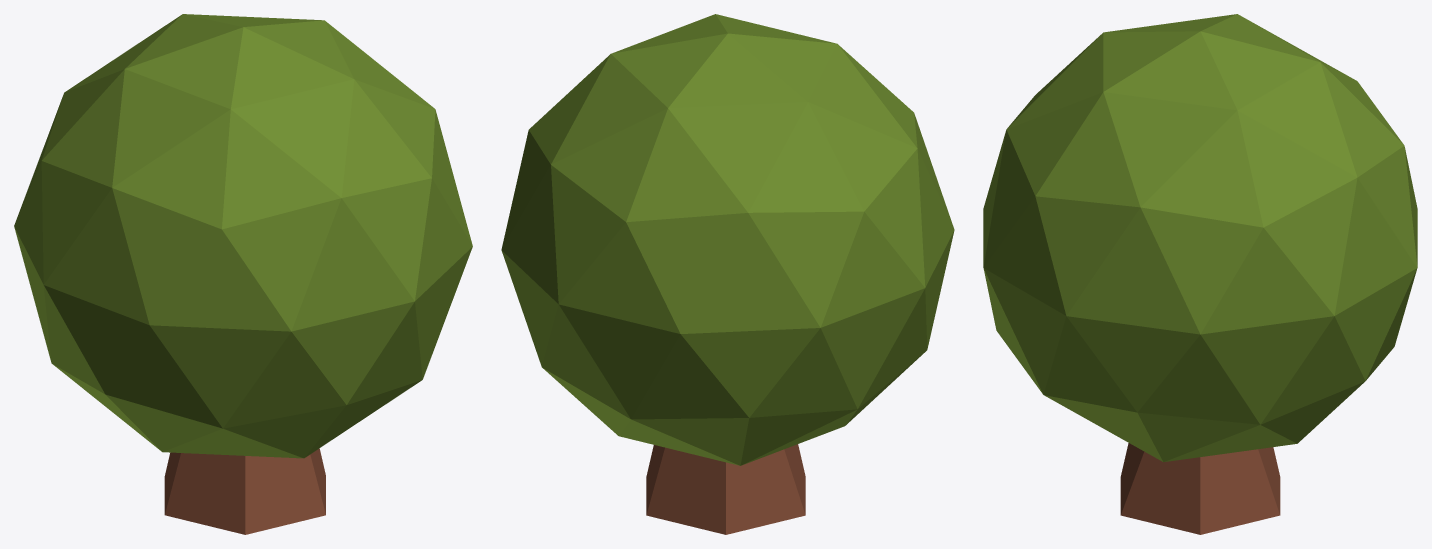
The model's file is bush_2_autumn_mat.fbx.
The picture shows the model from 3 angles, left to right: view 1: azimuth 30°, elevation 25°; view 2: azimuth 150°, elevation 25°; view 3: azimuth 270°, elevation 25°; orthographic projection.
Parts seen in each view (by area): view 1: bush_2_autumn_mat; view 2: bush_2_autumn_mat; view 3: bush_2_autumn_mat.
Part boxes in pixels (box(x1,y1,x2,y2)): bush_2_autumn_mat: box(14, 14, 472, 534); bush_2_autumn_mat: box(501, 14, 954, 534); bush_2_autumn_mat: box(983, 14, 1417, 534).
Size of the model in its own units: 1.41 by 1.58 by 1.34.
